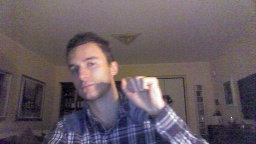Pugno: (118, 74, 165, 109)
